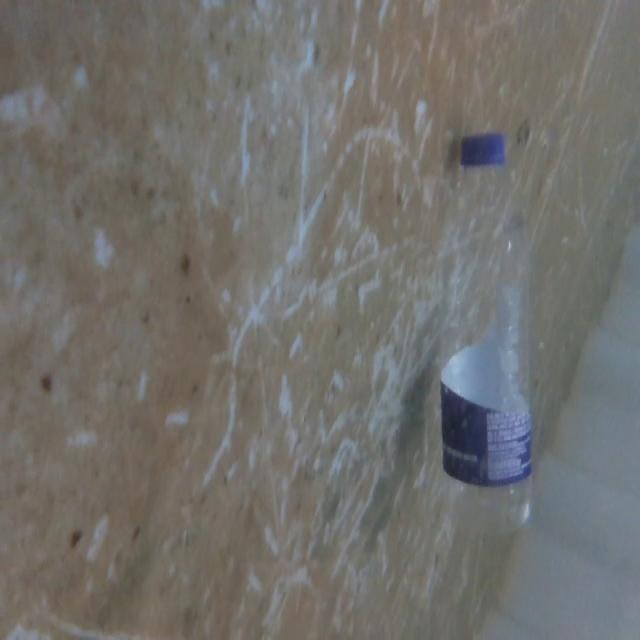plastic bottle: (431, 121, 545, 550)
